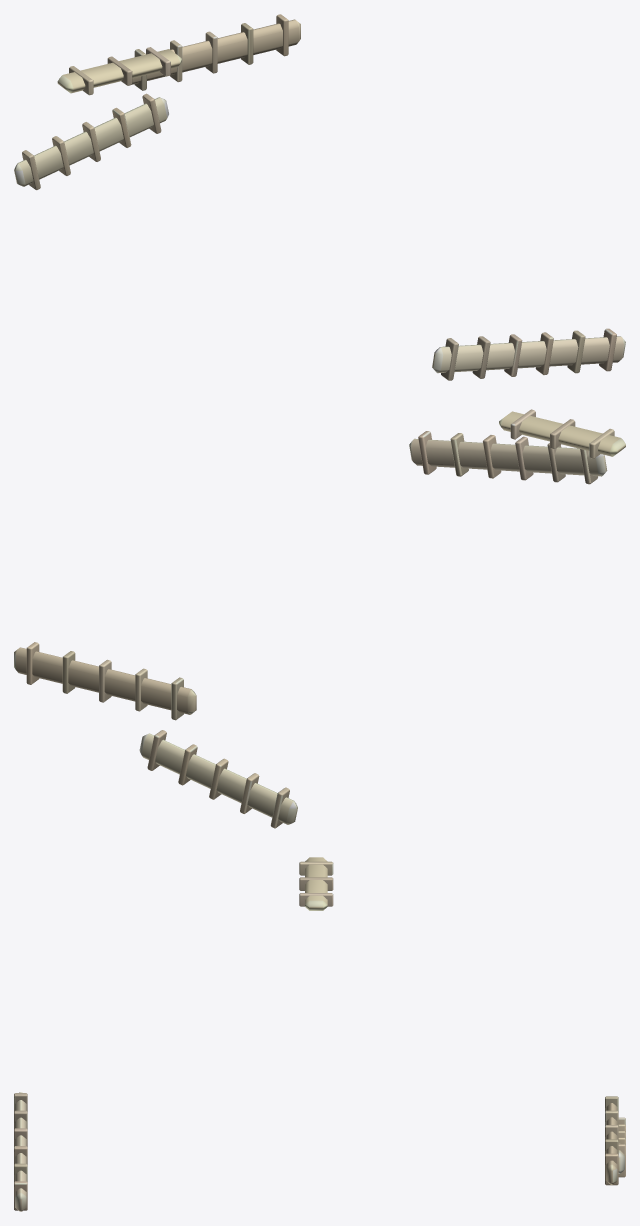
The model's file is SM_SharkKit_BattleScars.fbx.
3 renders of one model, top to bottom at view 1: azimuth 30°, elevation 25°; view 2: azimuth 150°, elevation 25°; view 3: azimuth 270°, elevation 25°, orthographic. The views are drawn at different scales.
Visible parts, largest first — view 1: SM_SharkKit_BattleScars; view 2: SM_SharkKit_BattleScars; view 3: SM_SharkKit_BattleScars.
Part boxes in pixels (x1=…): SM_SharkKit_BattleScars: x1=14, y1=14, x2=625, y2=380; SM_SharkKit_BattleScars: x1=14, y1=409, x2=625, y2=828; SM_SharkKit_BattleScars: x1=14, y1=857, x2=625, y2=1211.
Size of the model in its own units: 108 by 69.72 by 166.
